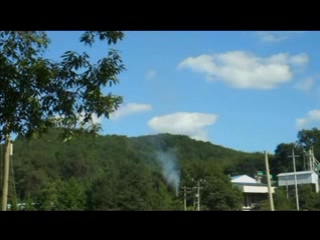smoke: (146, 144, 183, 198)
